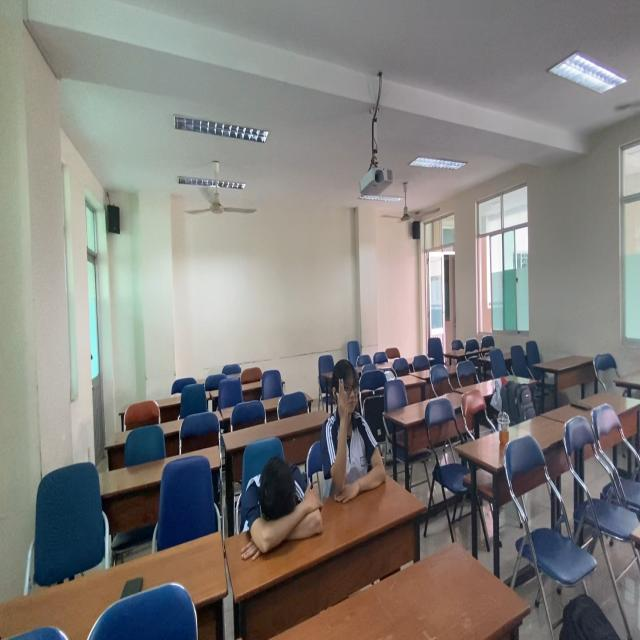raise_hand: (324, 358, 386, 515)
sleep: (229, 451, 323, 567)
